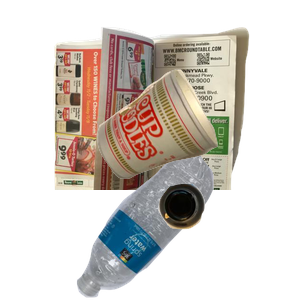glass: (156, 181, 300, 300)
paper: (51, 24, 291, 204)
plastic: (74, 156, 280, 300)
trash: (95, 67, 300, 238)
